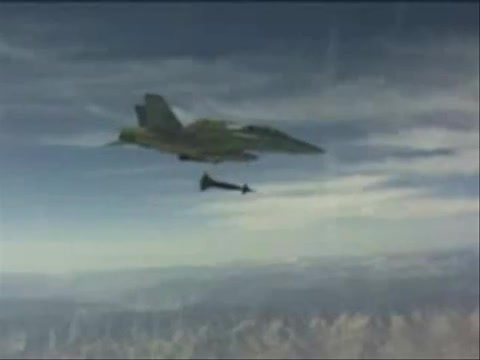aeroplane: (111, 93, 329, 168)
